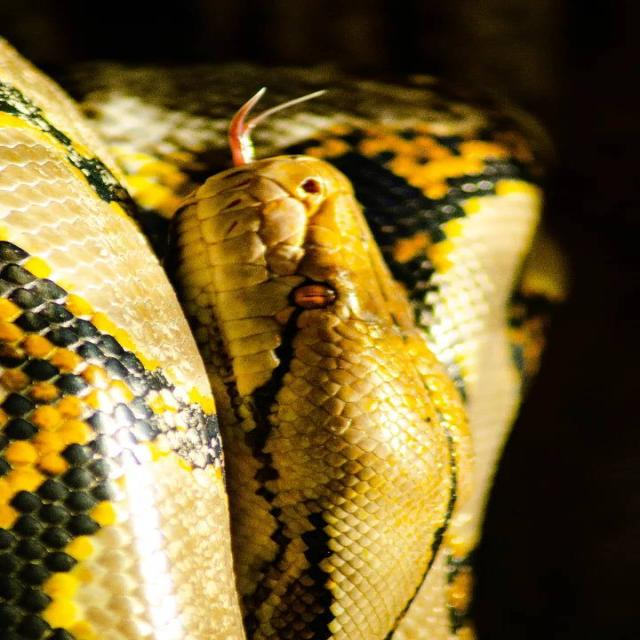Non-Venomous: (148, 110, 507, 451)
